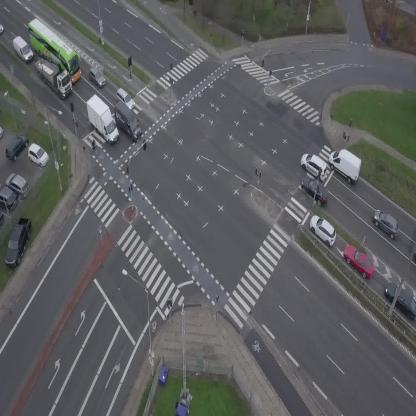bicycle: (190, 4, 199, 19), (89, 138, 98, 152)
bus: (18, 15, 91, 85)
car: (338, 239, 380, 283), (295, 171, 335, 209), (304, 211, 342, 248), (368, 206, 405, 241), (296, 149, 333, 182), (112, 87, 139, 112), (84, 64, 109, 89), (0, 23, 4, 34)
lorry: (25, 47, 80, 101), (78, 92, 129, 147), (323, 143, 368, 186), (105, 99, 149, 142), (8, 34, 37, 64), (413, 246, 416, 263)
